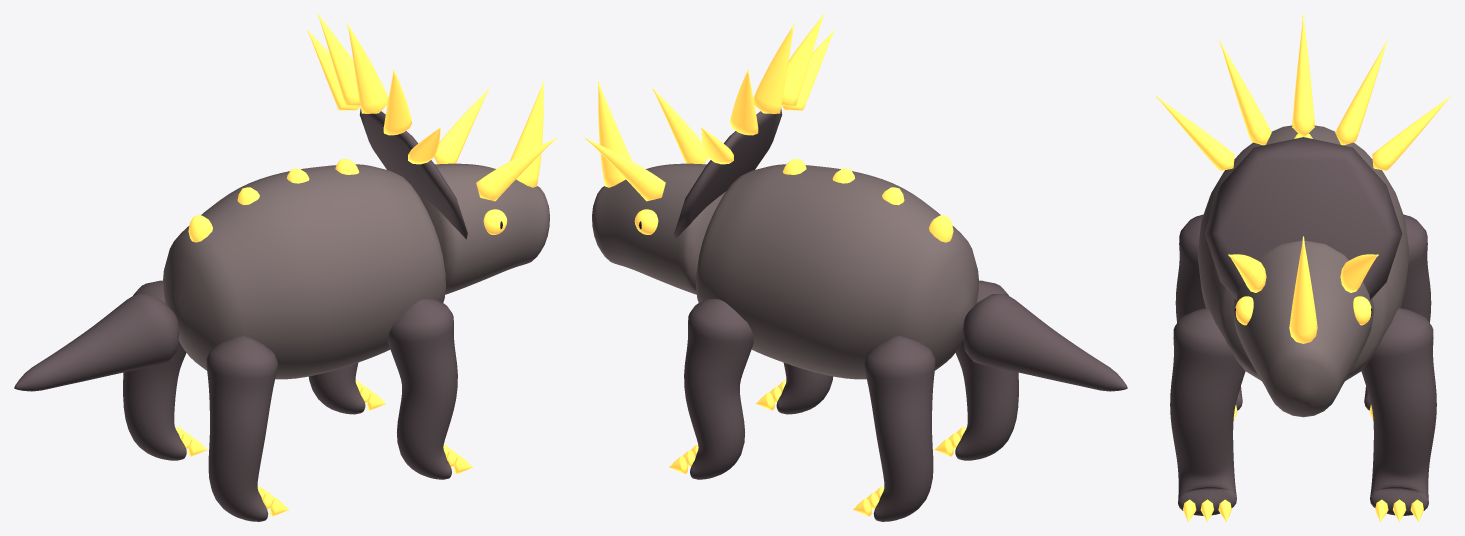
The model's file is magma_ceratopsian.glb.
3 renders of one model, left to right at view 1: azimuth 30°, elevation 25°; view 2: azimuth 150°, elevation 25°; view 3: azimuth 270°, elevation 25°, orthographic. The views are drawn at different scales.
Parts seen in each view (by area): view 1: MagmaCera_Torso, Leg3_Limb, Leg1_Limb, Cera_Head, Cera_Tail, Leg2_Limb, Ceratopsian_Frill, Leg0_Limb, FrillSpike_2, NasalHorn, BrowHorn_R, FrillSpike_3 (+4 smaller); view 2: MagmaCera_Torso, Leg2_Limb, Leg0_Limb, Cera_Head, Cera_Tail, Leg3_Limb, Ceratopsian_Frill, Leg1_Limb, FrillSpike_2, NasalHorn, BrowHorn_L, FrillSpike_1 (+4 smaller); view 3: Ceratopsian_Frill, Cera_Head, Leg0_Limb, Leg1_Limb, MagmaCera_Torso, Leg2_Limb, Leg3_Limb, NasalHorn, FrillSpike_2, FrillSpike_1, FrillSpike_3, FrillSpike_0 (+5 smaller).
Boxes of the visible parts, x1,y1,x2,y2 form: MagmaCera_Torso: (163, 164, 445, 379); Leg3_Limb: (206, 335, 277, 521); Leg1_Limb: (388, 299, 457, 479); Cera_Head: (416, 163, 549, 294); Cera_Tail: (14, 294, 179, 391); Leg2_Limb: (123, 280, 186, 460); Ceratopsian_Frill: (359, 108, 467, 239); Leg0_Limb: (308, 363, 365, 414); FrillSpike_2: (347, 23, 388, 113); NasalHorn: (510, 81, 543, 187); BrowHorn_R: (476, 138, 556, 201); FrillSpike_3: (317, 14, 360, 105); MagmaCera_Torso: (696, 164, 978, 379); Leg2_Limb: (864, 335, 935, 521); Leg0_Limb: (684, 299, 753, 479); Cera_Head: (592, 163, 725, 294); Cera_Tail: (962, 294, 1127, 391); Leg3_Limb: (955, 280, 1018, 460); Ceratopsian_Frill: (674, 108, 782, 239); Leg1_Limb: (776, 363, 833, 414); FrillSpike_2: (753, 23, 794, 113); NasalHorn: (598, 81, 631, 187); BrowHorn_L: (585, 138, 665, 201); FrillSpike_1: (781, 14, 824, 105); Ceratopsian_Frill: (1204, 137, 1402, 300); Cera_Head: (1232, 240, 1374, 417); Leg0_Limb: (1361, 308, 1436, 515); Leg1_Limb: (1170, 308, 1245, 515); MagmaCera_Torso: (1198, 125, 1408, 380); Leg2_Limb: (1364, 214, 1431, 410); Leg3_Limb: (1175, 214, 1242, 410); NasalHorn: (1289, 236, 1317, 343); FrillSpike_2: (1292, 14, 1314, 137); FrillSpike_1: (1219, 40, 1271, 145); FrillSpike_3: (1335, 40, 1387, 145); FrillSpike_0: (1156, 96, 1234, 170).
Size of the model in its own units: 2.4 by 1.86 by 1.04.
